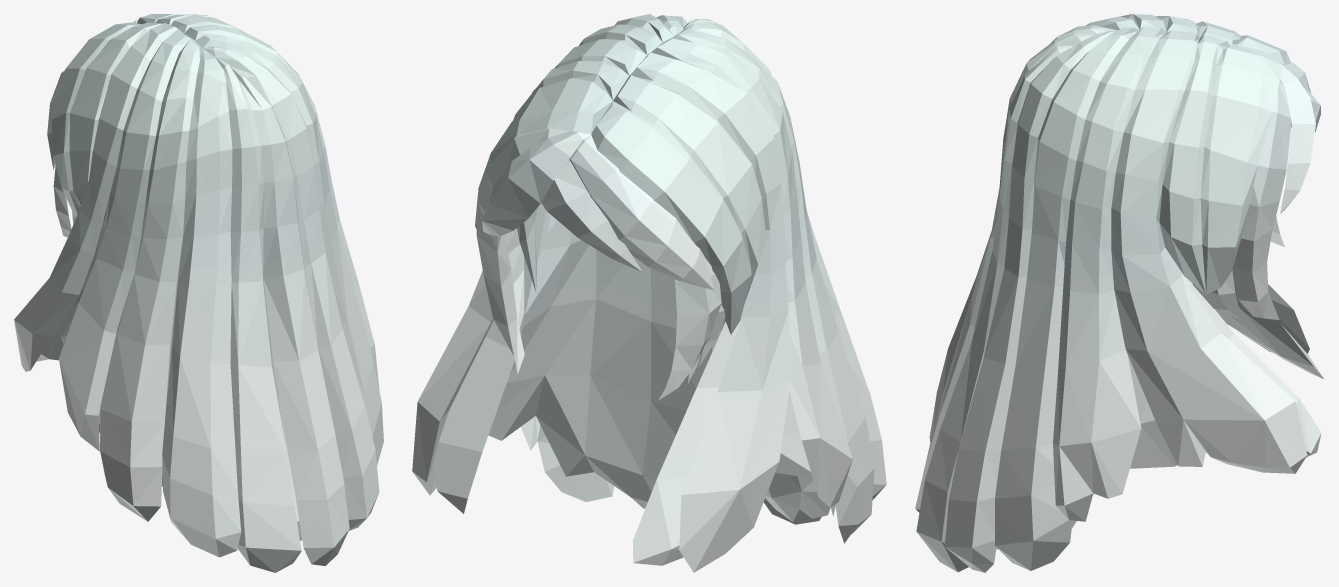
Rendered from CharSkyKid_Hair_BackLong.glb.
The picture shows the model from 3 angles, left to right: view 1: azimuth 30°, elevation 25°; view 2: azimuth 150°, elevation 25°; view 3: azimuth 270°, elevation 25°; orthographic projection. The views are drawn at different scales.
Visible parts, largest first — view 1: CharSkyKid_Hair_BackLong; view 2: CharSkyKid_Hair_BackLong; view 3: CharSkyKid_Hair_BackLong.
Boxes of the visible parts, x1,y1,x2,y2 form: CharSkyKid_Hair_BackLong: (14,14,383,572); CharSkyKid_Hair_BackLong: (412,14,886,572); CharSkyKid_Hair_BackLong: (915,14,1324,572).
Size of the model in its own units: 3.89 by 6.24 by 4.47.
1 material, 1 textured.
